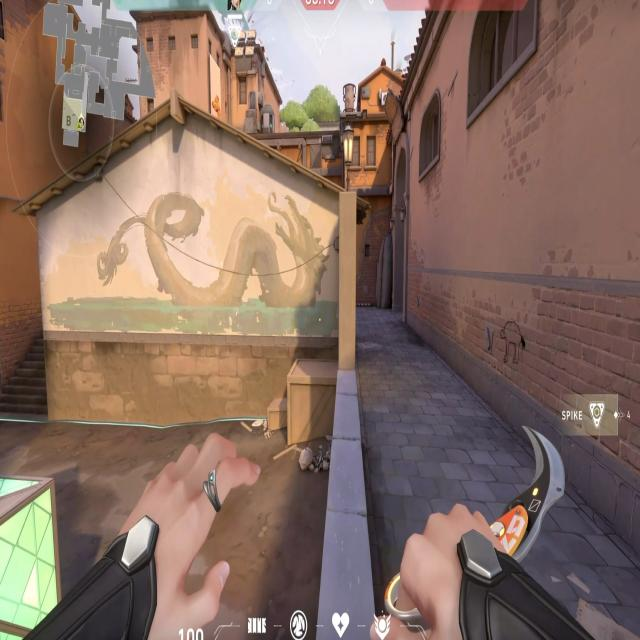Throwables: (465, 0, 549, 144), (414, 84, 448, 185)
